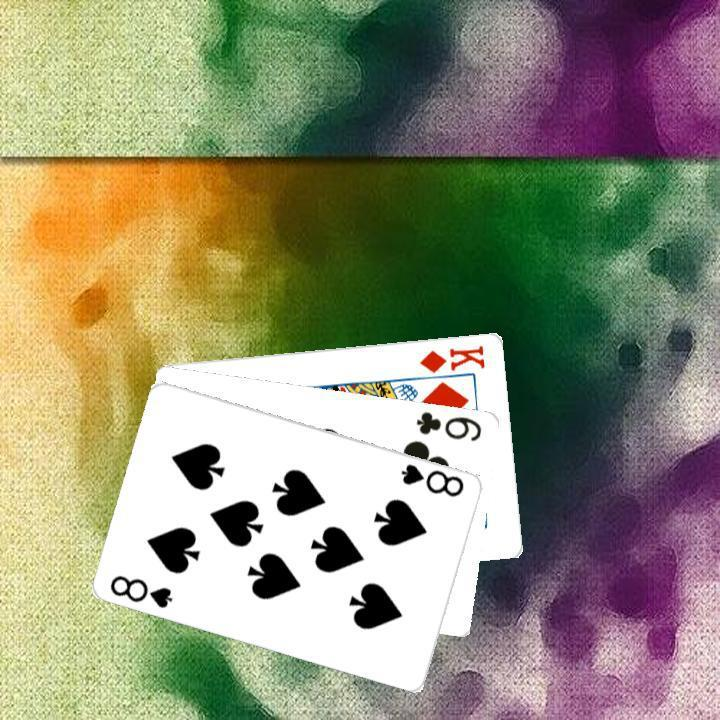6: (413, 406, 484, 443)
8: (396, 459, 467, 499), (106, 570, 175, 610)
K: (415, 341, 488, 375)
